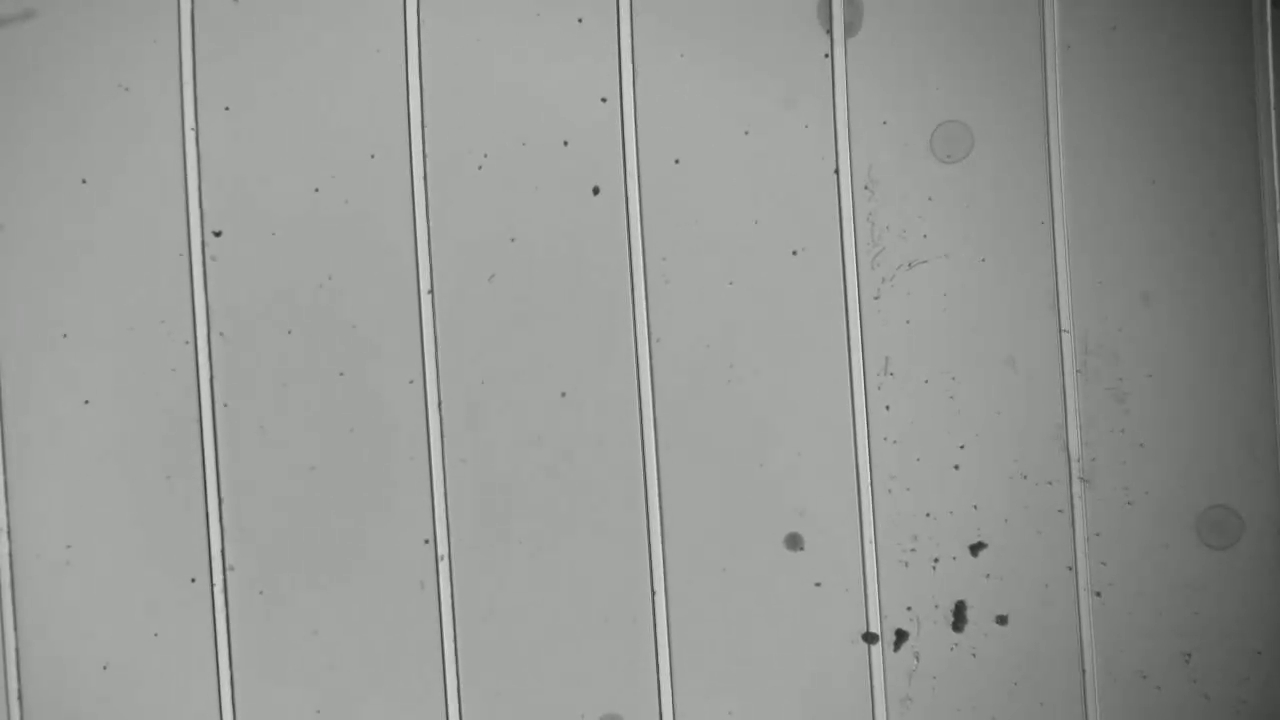stains_enbedded: (858, 623, 888, 654)
